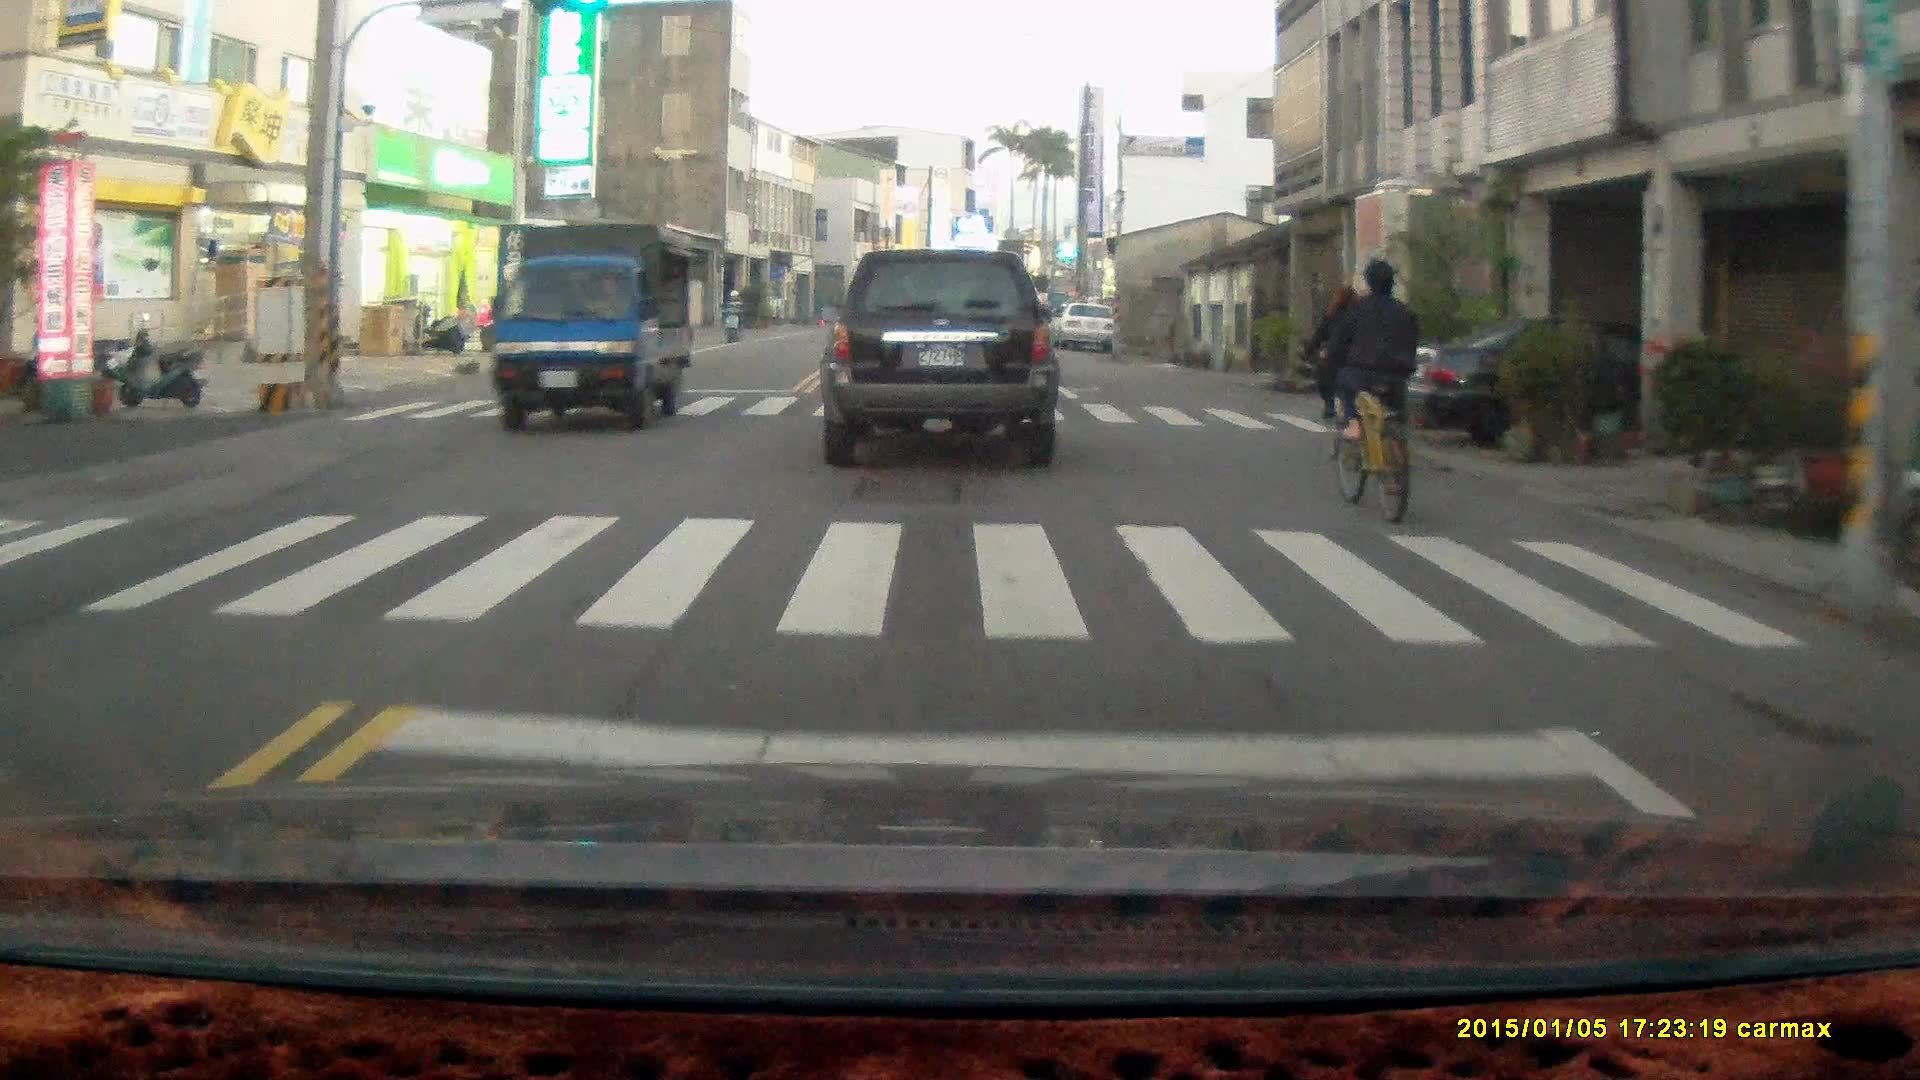rider: (1321, 258, 1424, 526), (1308, 277, 1377, 465), (719, 288, 743, 345)
vehicle: (1403, 318, 1791, 462), (819, 248, 1062, 470), (487, 220, 702, 433), (1057, 304, 1119, 354)
